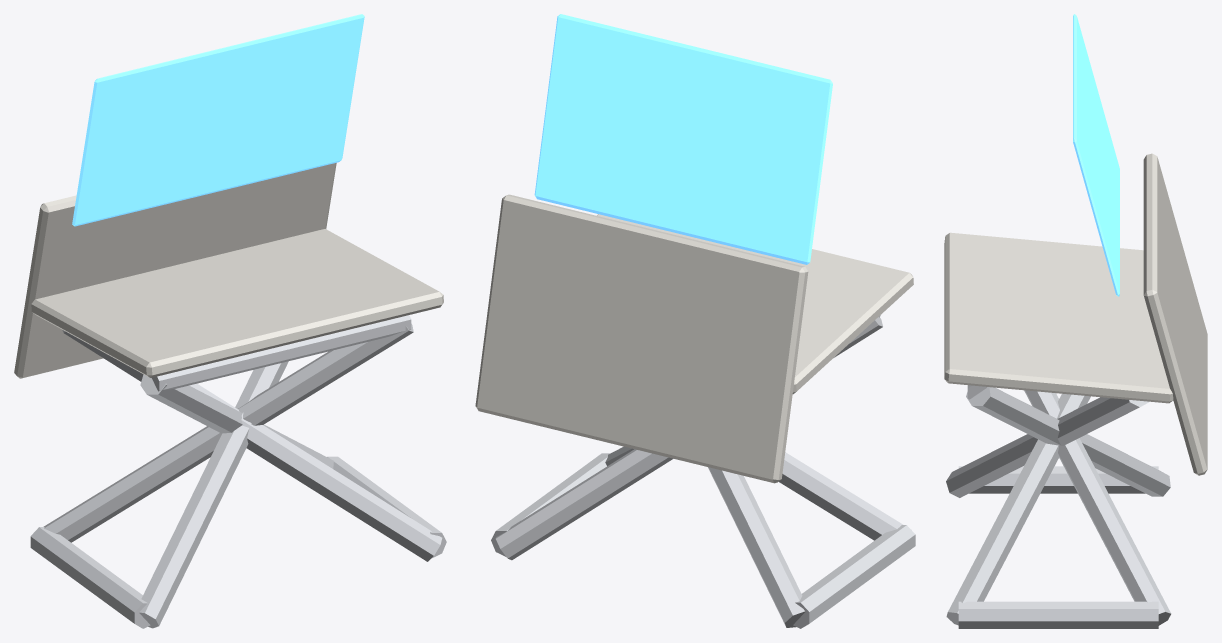
The model's file is nightclub-and-dj-booth-laptop-on-stand-6c305e35.glb.
3 views of the same model, side by side, from view 1: azimuth 30°, elevation 25°; view 2: azimuth 150°, elevation 25°; view 3: azimuth 270°, elevation 25° (orthographic). The views are drawn at different scales.
Visible parts, largest first — view 1: laptop-on-stand; view 2: laptop-on-stand; view 3: laptop-on-stand.
Boxes of the visible parts, bbox=[...] form: laptop-on-stand: bbox=[14, 14, 446, 628]; laptop-on-stand: bbox=[475, 14, 915, 628]; laptop-on-stand: bbox=[944, 14, 1207, 628].
Bounding box in the file's own units: 0.3466 × 0.5358 × 0.2626.
